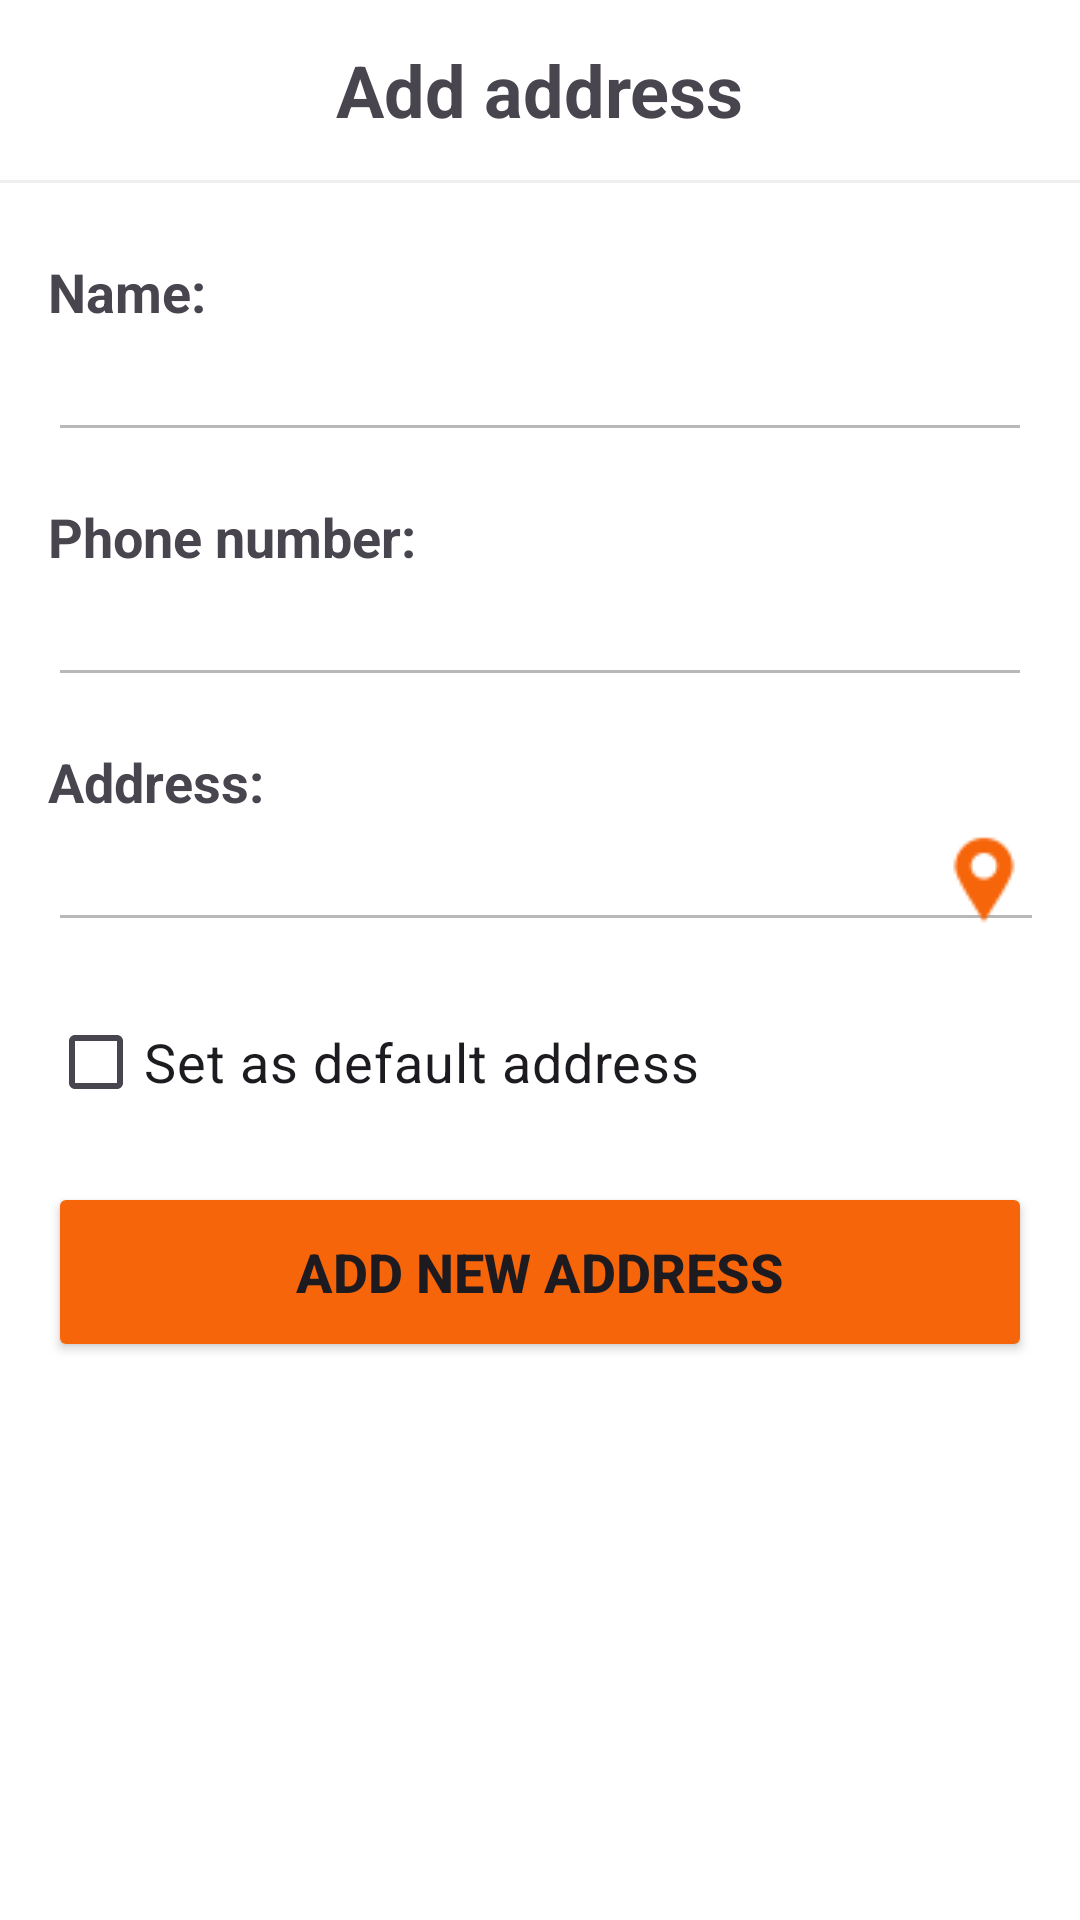

Icon bounding boxes for this 1080×1920 phone screenshot, format (x1, y1, x2, y2):
location pin: (936, 837, 1032, 922)
